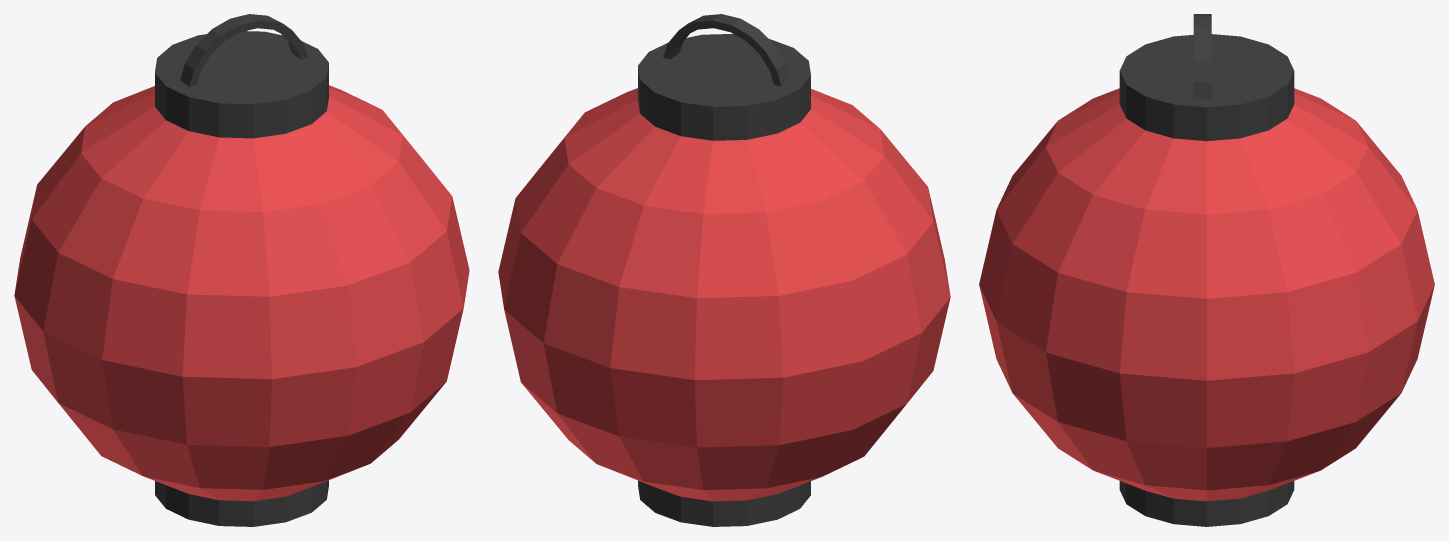
File: Latern.fbx
3 renders of one model, left to right at view 1: azimuth 30°, elevation 25°; view 2: azimuth 150°, elevation 25°; view 3: azimuth 270°, elevation 25°, orthographic.
Visible parts, largest first — view 1: Sphere; view 2: Sphere; view 3: Sphere.
Part boxes in pixels (<box>): Sphere: <box>14,14,469,526</box>; Sphere: <box>498,14,950,526</box>; Sphere: <box>979,14,1434,526</box>.
Size of the model in its own units: 200 by 227 by 200.
